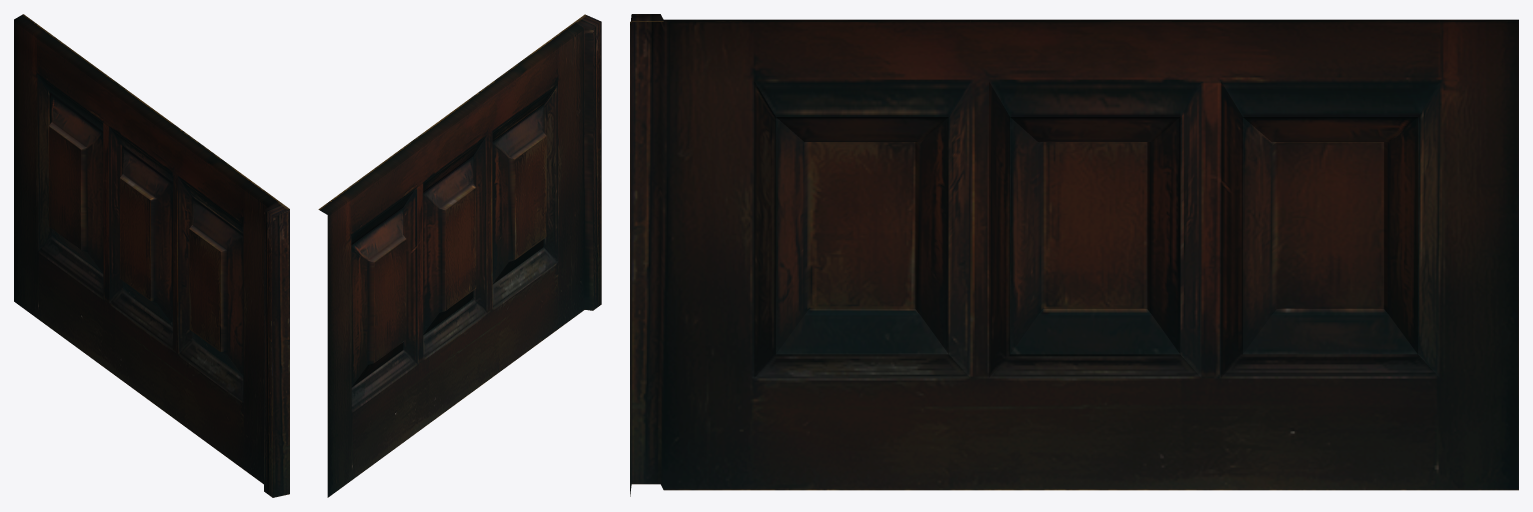
Rendered from wall_wooden_panels.fbx.
3 renders of one model, left to right at view 1: azimuth 30°, elevation 25°; view 2: azimuth 150°, elevation 25°; view 3: azimuth 270°, elevation 25°, orthographic. The views are drawn at different scales.
Visible parts, largest first — view 1: candlestick:pPlane2; view 2: candlestick:pPlane2; view 3: candlestick:pPlane2.
Boxes of the visible parts, x1,y1,x2,y2 form: candlestick:pPlane2: (14, 14, 289, 497); candlestick:pPlane2: (318, 14, 601, 497); candlestick:pPlane2: (630, 14, 1518, 496).
Bounding box in the file's own units: 0.1804 × 2.95 × 5.
